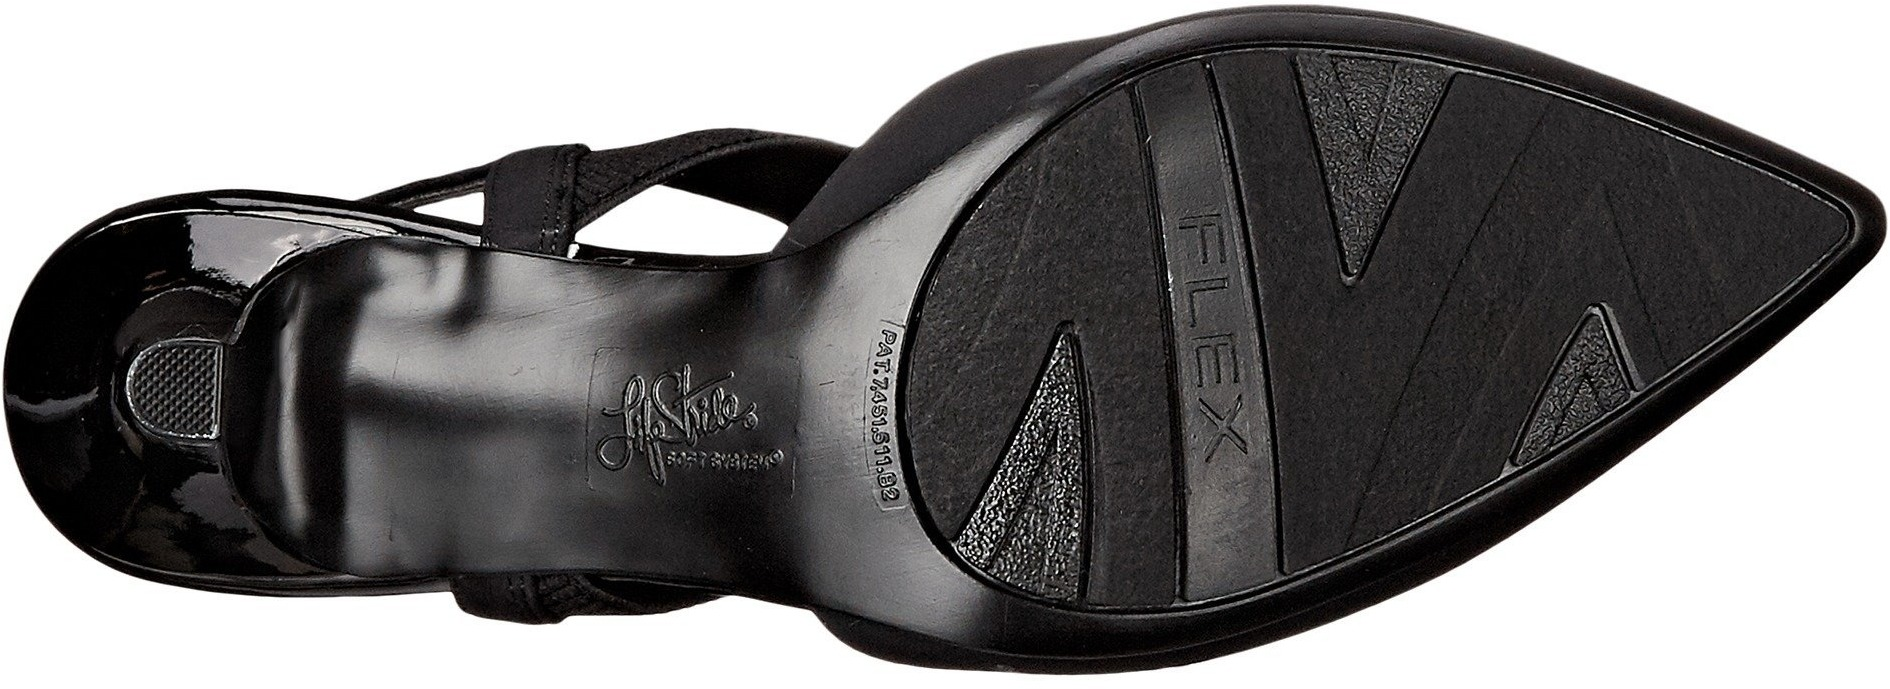other: (143, 357, 215, 428)
text: (1178, 326, 1255, 401), (1162, 201, 1239, 275)
triangle: (1237, 48, 1490, 288), (946, 313, 1141, 507), (1485, 298, 1667, 473)
